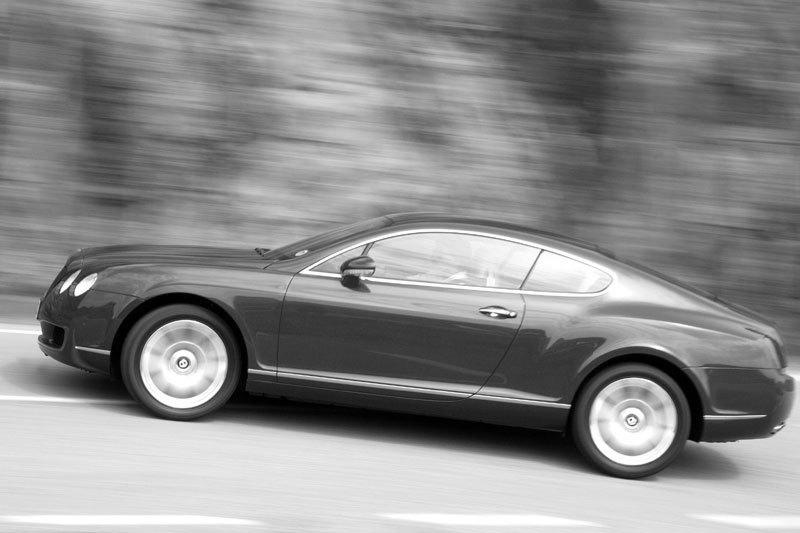car: (38, 212, 797, 482)
